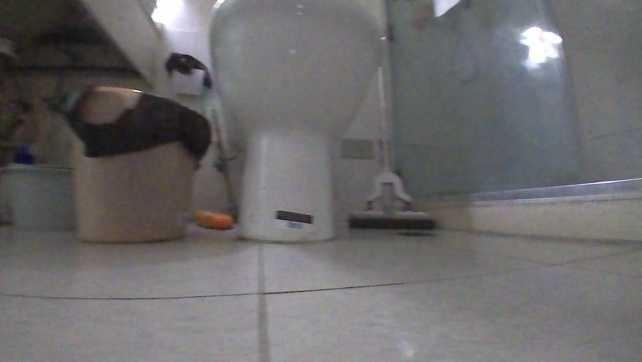door_sill: (405, 172, 640, 245)
toilet: (205, 0, 387, 246)
trash_can: (40, 81, 216, 246)
